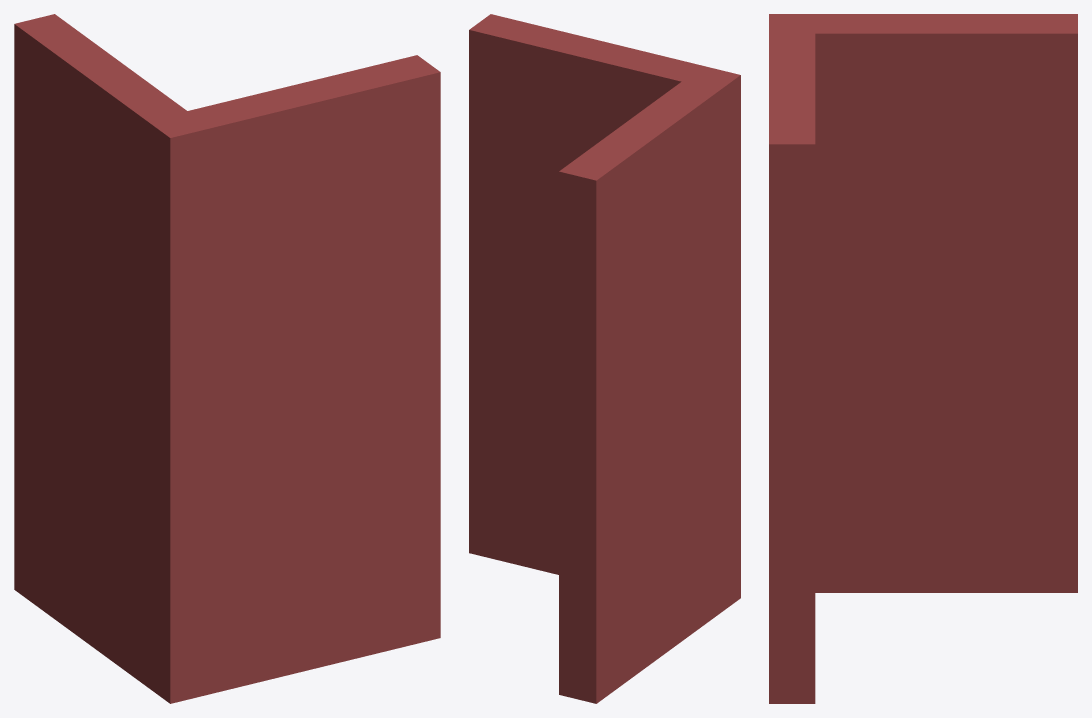
File: PeachCorner.glb
3 renders of one model, left to right at view 1: azimuth 30°, elevation 25°; view 2: azimuth 150°, elevation 25°; view 3: azimuth 270°, elevation 25°, orthographic. The views are drawn at different scales.
Visible parts, largest first — view 1: wall_plain_corner_peach; view 2: wall_plain_corner_peach; view 3: wall_plain_corner_peach.
Boxes of the visible parts, x1,y1,x2,y2 form: wall_plain_corner_peach: (14,14,440,703); wall_plain_corner_peach: (469,14,740,703); wall_plain_corner_peach: (769,14,1077,703).
Size of what is drawn, in the model's own units: 2 by 4 by 2.
1 material, 1 textured.
